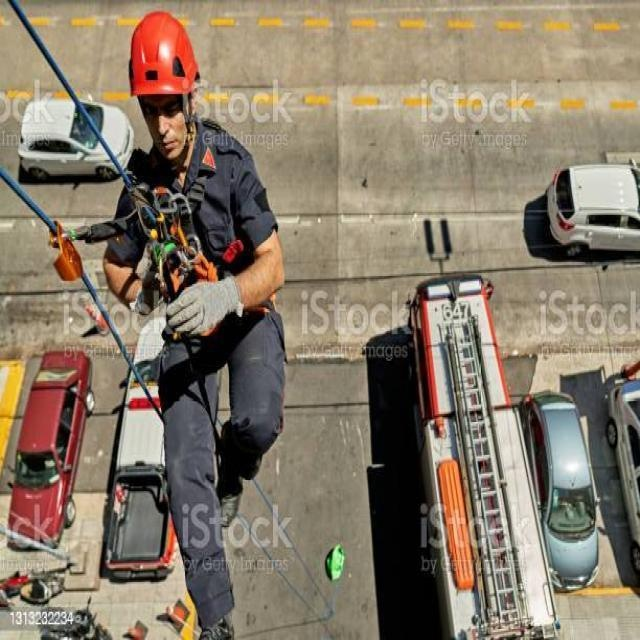Arnes_seguridad: (124, 132, 284, 368)
